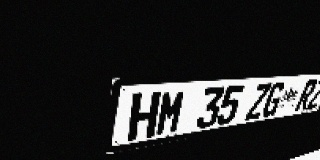3: (195, 86, 226, 129)
5: (215, 85, 245, 126)
G: (260, 82, 287, 118)
H: (127, 91, 161, 141)
M: (154, 89, 187, 137)
R: (294, 79, 319, 112)
Z: (244, 83, 272, 121), (305, 78, 320, 110)
